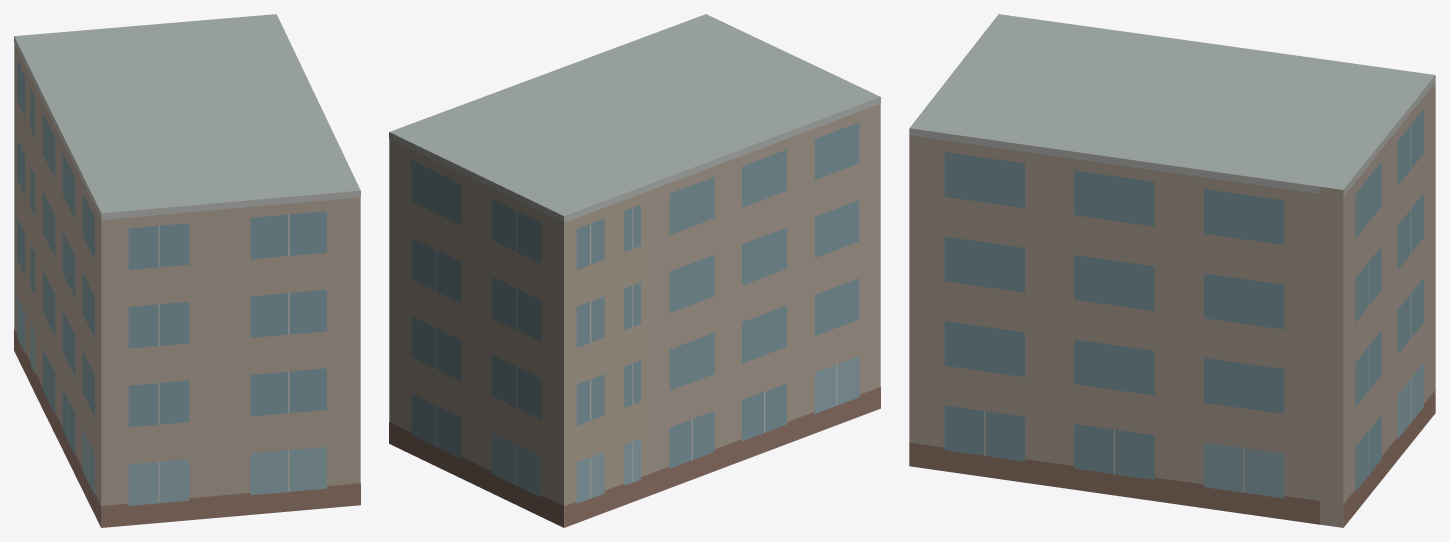
Rendered from survey-upis-32886804.glb.
The picture shows the model from 3 angles, left to right: view 1: azimuth 30°, elevation 25°; view 2: azimuth 150°, elevation 25°; view 3: azimuth 270°, elevation 25°; orthographic projection. The views are drawn at different scales.
Visible parts, largest first — view 1: survey-upis-32886804.tmp; view 2: survey-upis-32886804.tmp; view 3: survey-upis-32886804.tmp.
Part boxes in pixels (bbox=[...]): survey-upis-32886804.tmp: bbox=[14, 14, 360, 527]; survey-upis-32886804.tmp: bbox=[389, 14, 880, 527]; survey-upis-32886804.tmp: bbox=[909, 14, 1435, 527].
Bounding box in the file's own units: 12.85 × 11.5 × 16.24.
